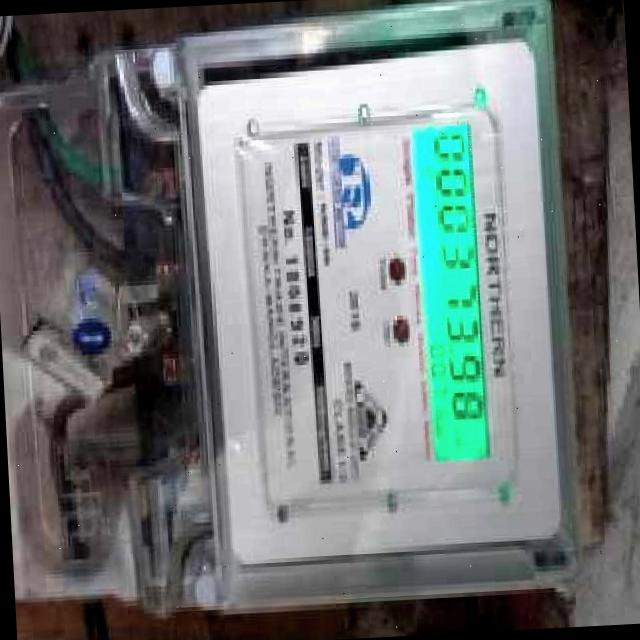LCD: (400, 115, 503, 479)
